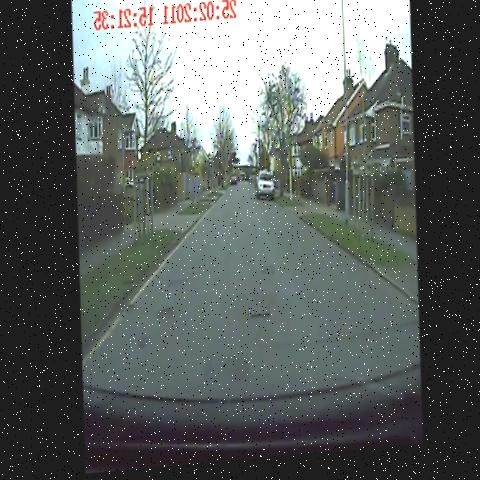pothole: (247, 263, 283, 295), (146, 299, 177, 333), (124, 334, 150, 363), (116, 301, 138, 326), (157, 278, 187, 295)
